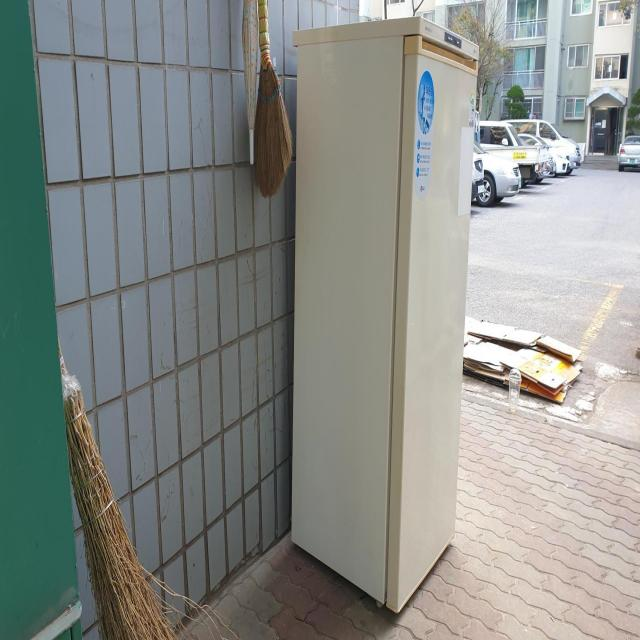refrigerator: (291, 18, 480, 616)
